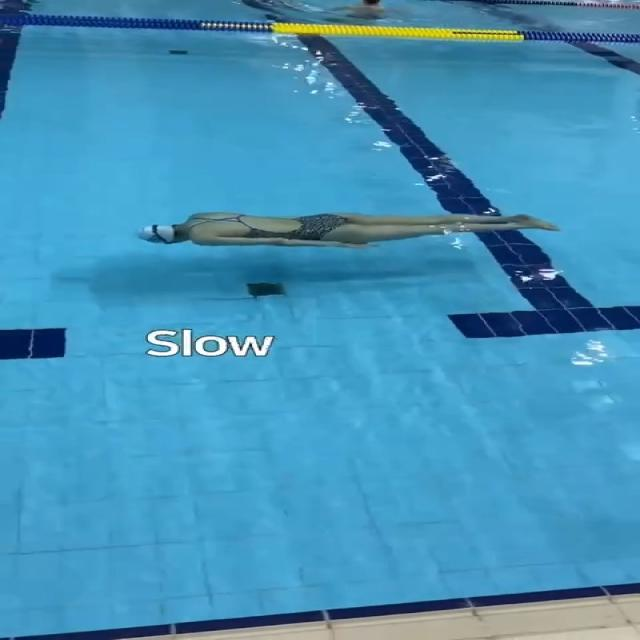Swimming: (135, 208, 560, 249)
